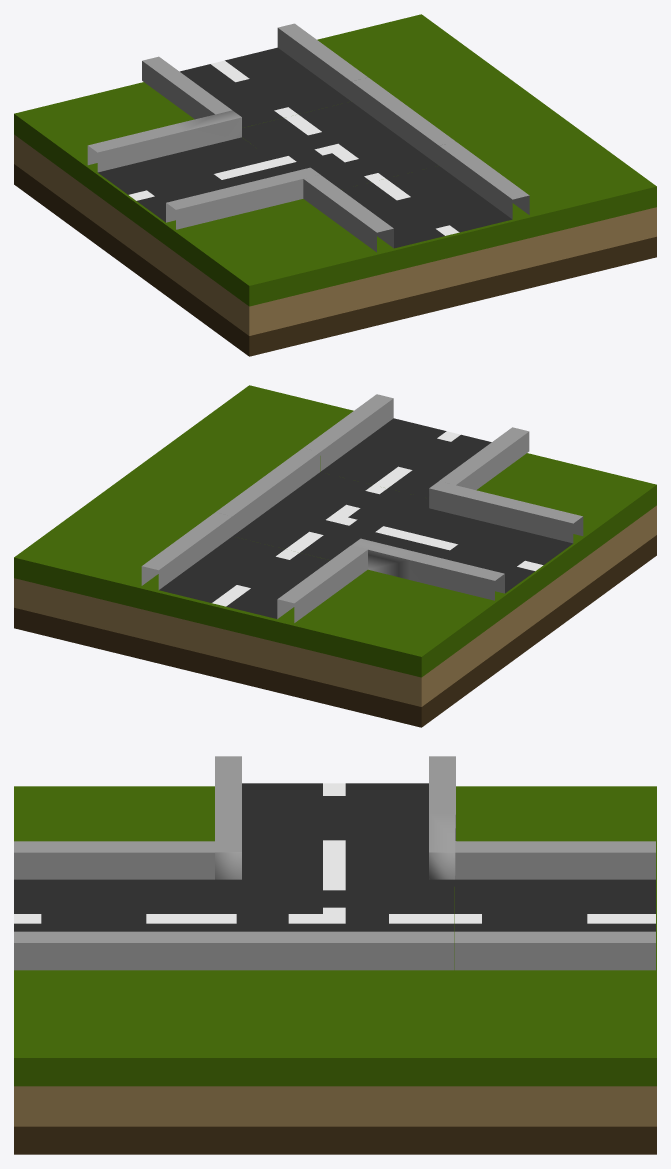
Rendered from bothways road.fbx.
3 renders of one model, top to bottom at view 1: azimuth 30°, elevation 25°; view 2: azimuth 150°, elevation 25°; view 3: azimuth 270°, elevation 25°, orthographic. The views are drawn at different scales.
Visible parts, largest first — view 1: Plane.002; view 2: Plane.002; view 3: Plane.002.
Boxes of the visible parts, x1,y1,x2,y2 form: Plane.002: [14, 14, 656, 356]; Plane.002: [14, 385, 656, 727]; Plane.002: [14, 756, 656, 1154].
Size of the model in its own units: 200 by 43.47 by 200.
